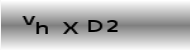2: (104, 19, 118, 32)
D: (86, 18, 103, 32)
X: (61, 20, 78, 34)
h: (35, 21, 48, 35)
v: (22, 14, 35, 26)
